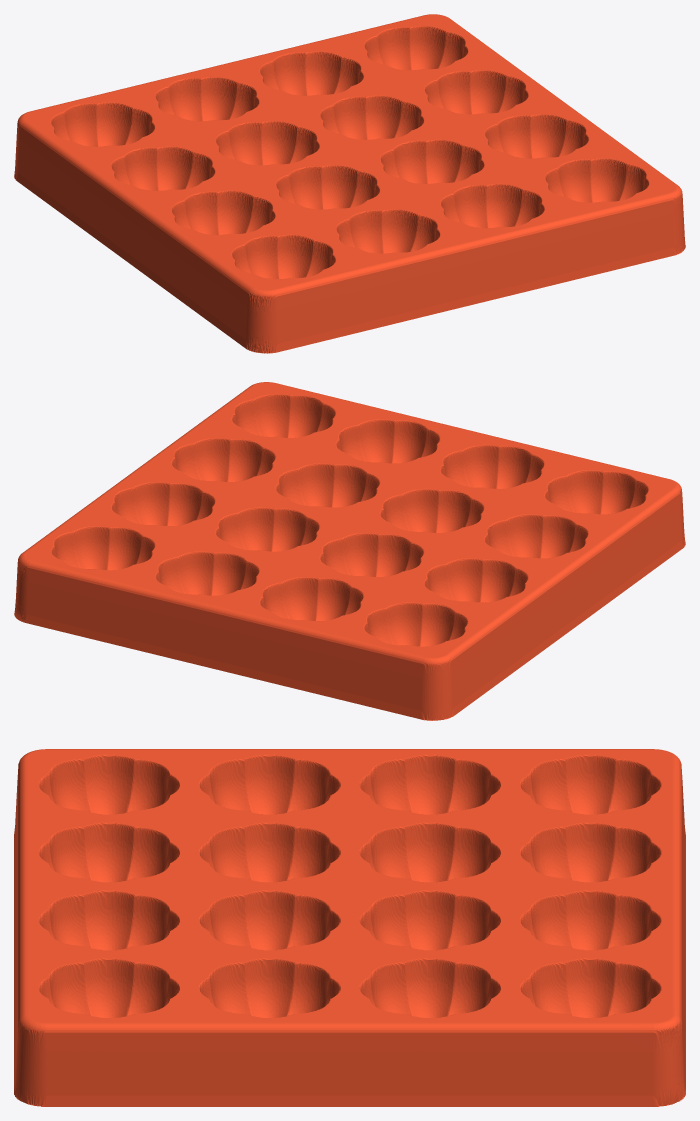
The model's file is mold.glb.
3 views of the same model, one above another, from view 1: azimuth 30°, elevation 25°; view 2: azimuth 150°, elevation 25°; view 3: azimuth 270°, elevation 25° (orthographic). The views are drawn at different scales.
Visible parts, largest first — view 1: geometry_0; view 2: geometry_0; view 3: geometry_0.
Part boxes in pixels (bbox=[...]): geometry_0: bbox=[14, 14, 685, 353]; geometry_0: bbox=[14, 382, 685, 720]; geometry_0: bbox=[14, 749, 685, 1106].
Bounding box in the file's own units: 0.1856 × 0.0239 × 0.1856.
